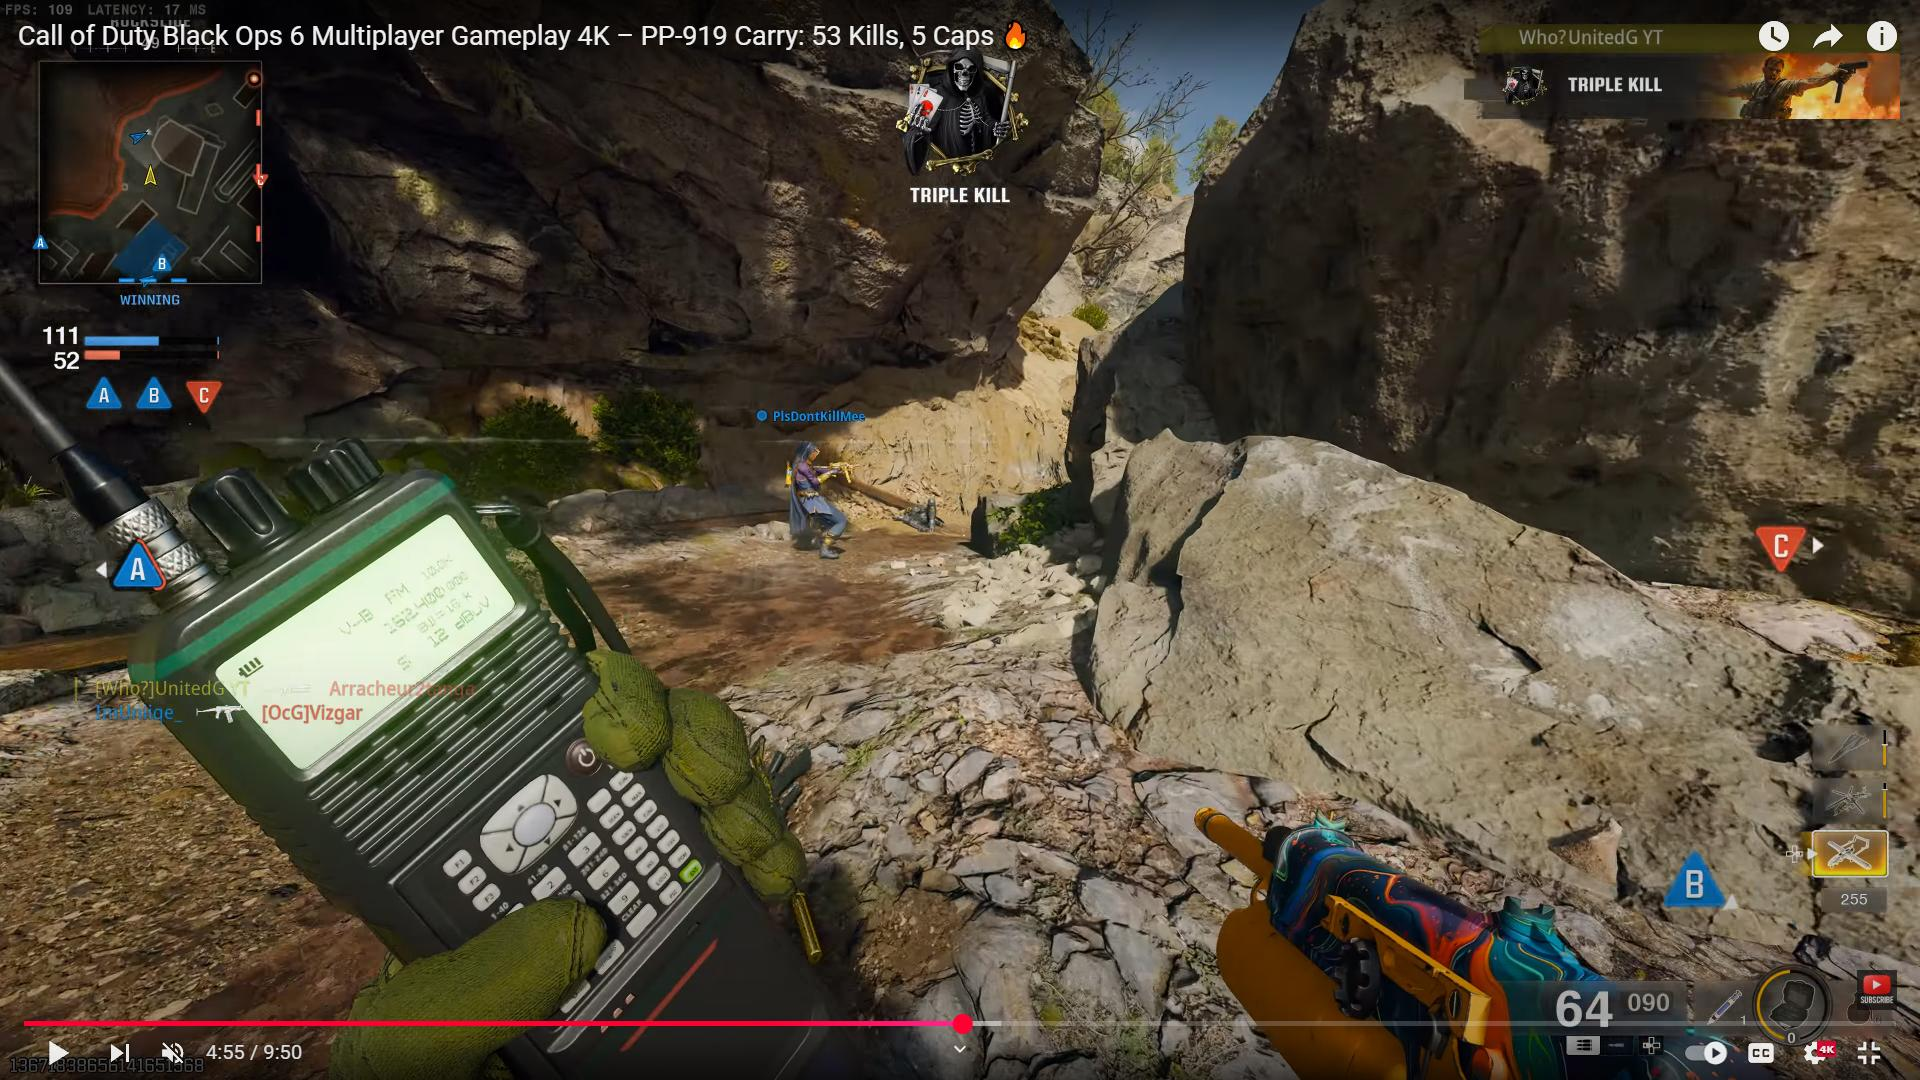Enemy: (762, 427, 868, 567)
